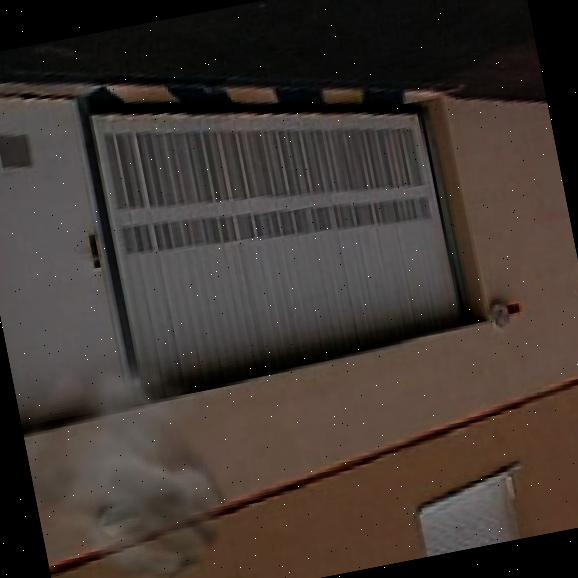smoke: (11, 332, 266, 578)
